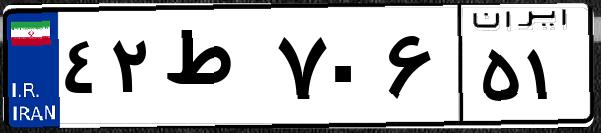0: (330, 28, 385, 110)
1: (525, 38, 570, 115)
2: (110, 28, 158, 98)
4: (57, 26, 110, 100)
5: (475, 38, 525, 113)
6: (385, 28, 445, 110)
7: (270, 28, 330, 110)
ط: (158, 20, 270, 120)
